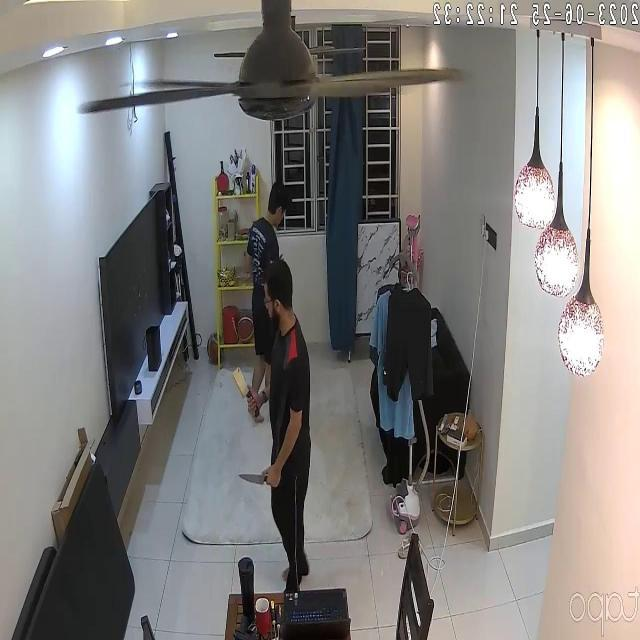Knife: (227, 354, 265, 427), (236, 458, 275, 498)
